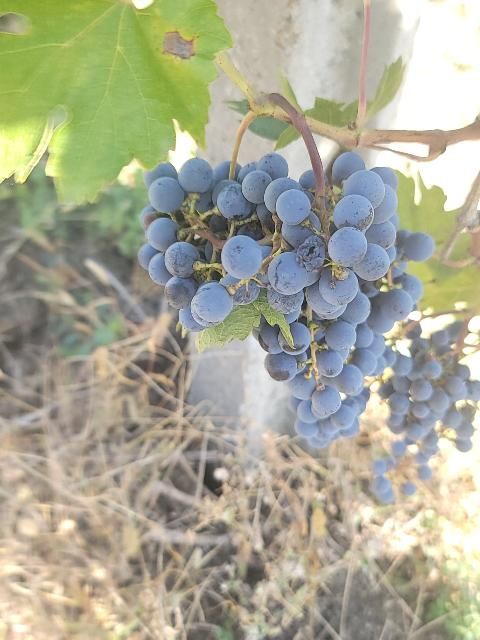grapes: (258, 152, 435, 448), (140, 154, 318, 330), (370, 321, 480, 504)
